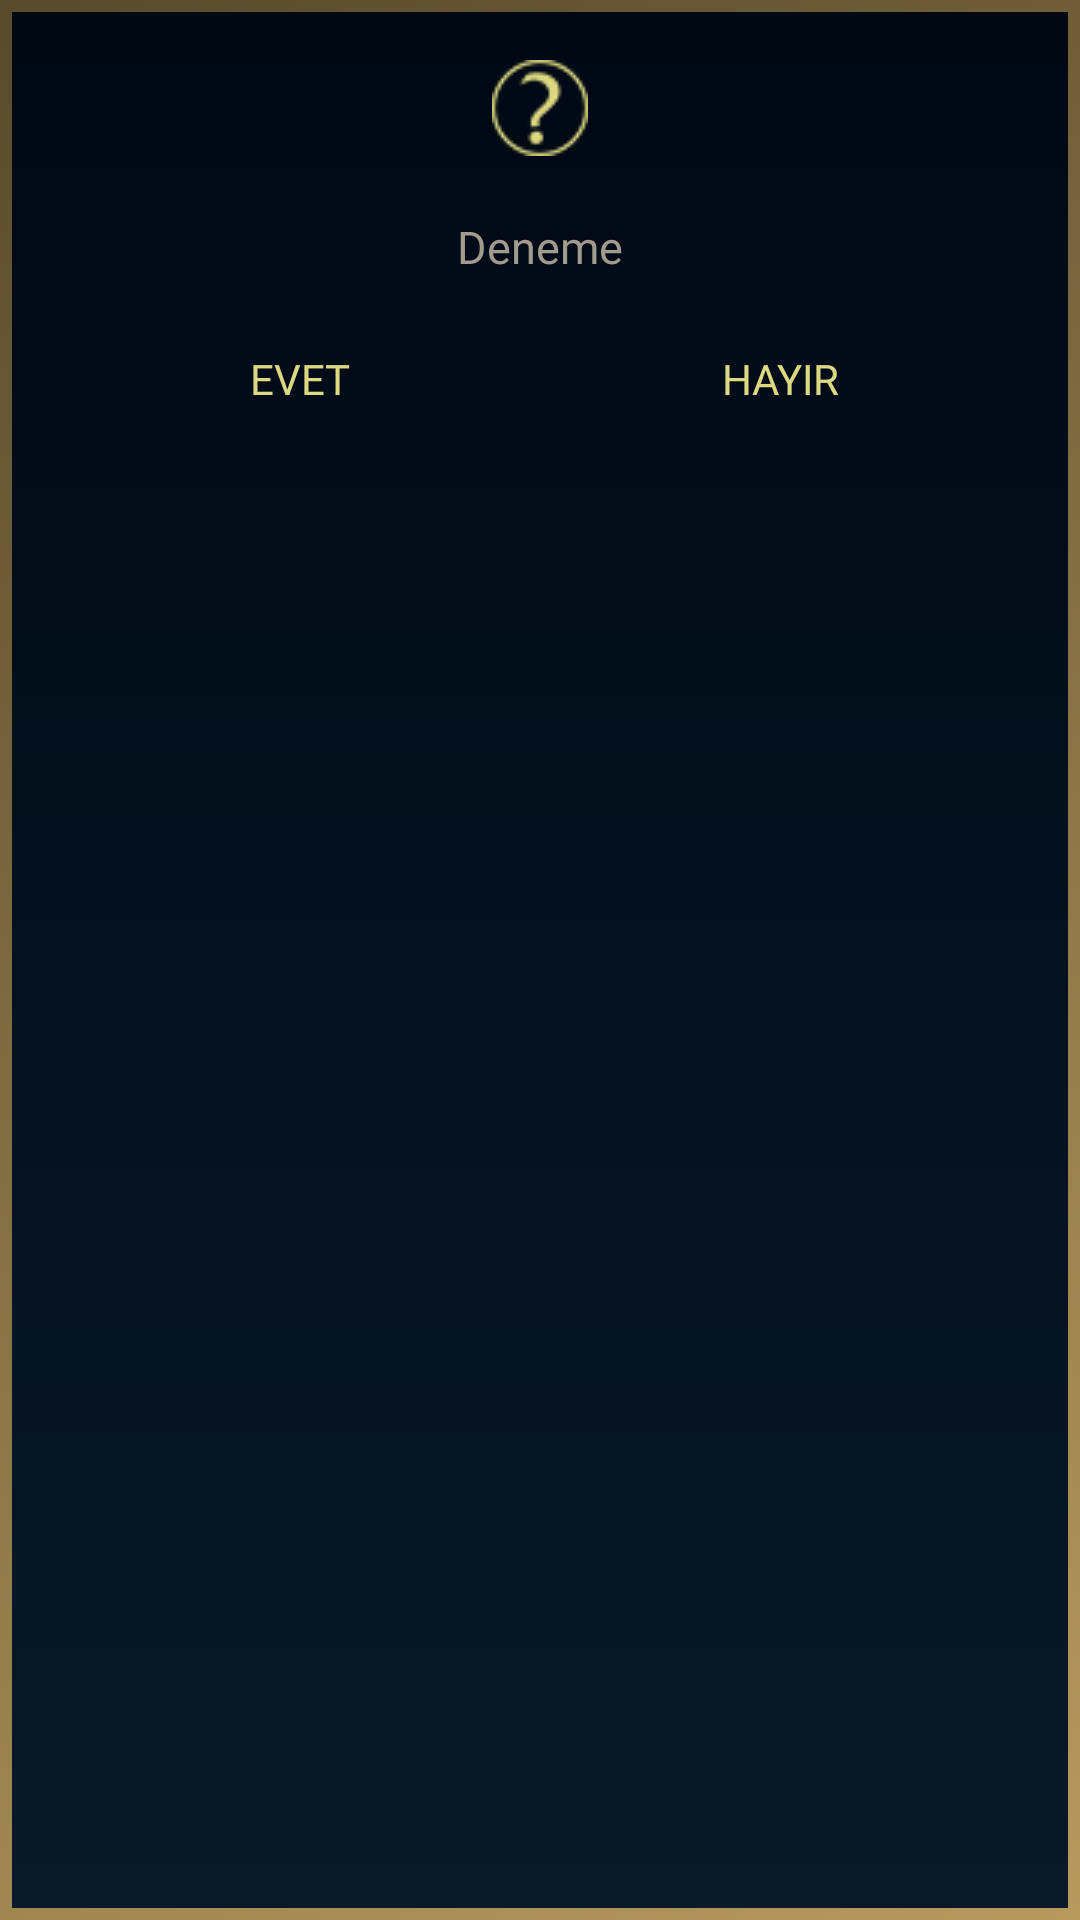

Where icons sit on this 1080 × 1920 app screen, as bbox=[x1, y1, x2, y2]:
question: bbox=[492, 60, 588, 156]
